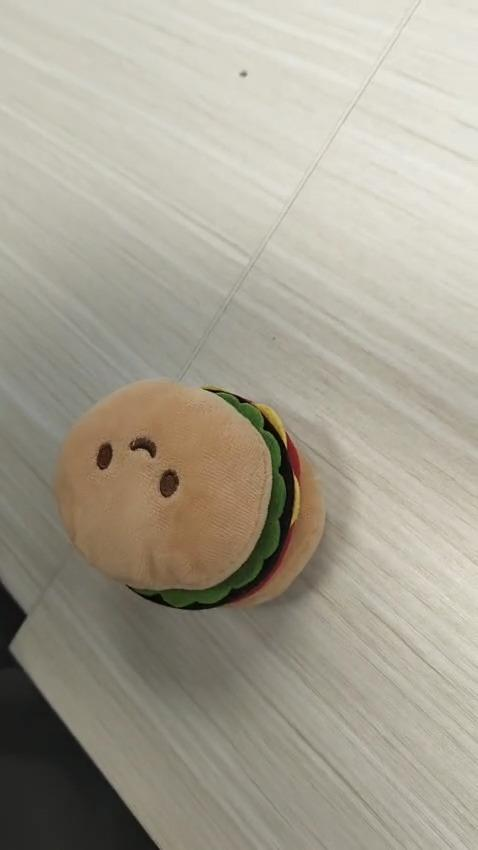hamburger: (53, 377, 326, 611)
